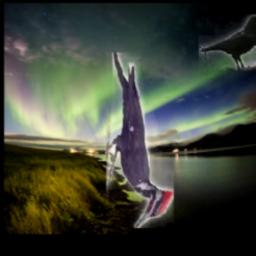Crow: (199, 14, 256, 71)
Woodpecker: (107, 52, 175, 228)
